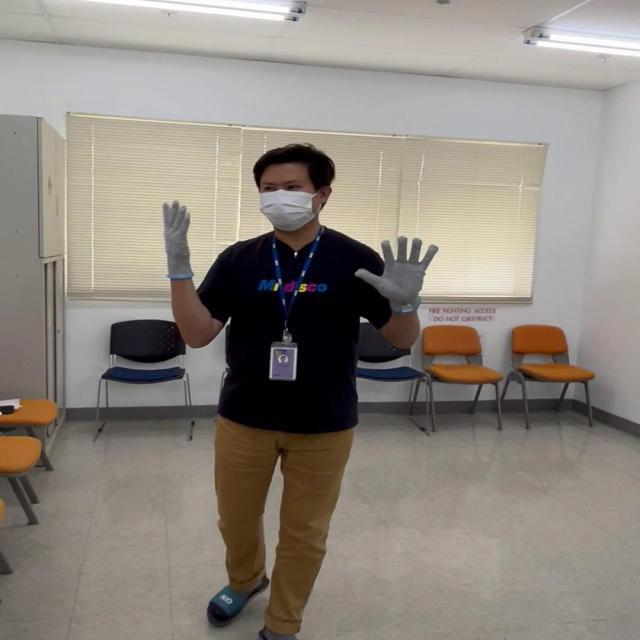gloved_hand: (357, 234, 437, 308), (162, 198, 194, 282)
